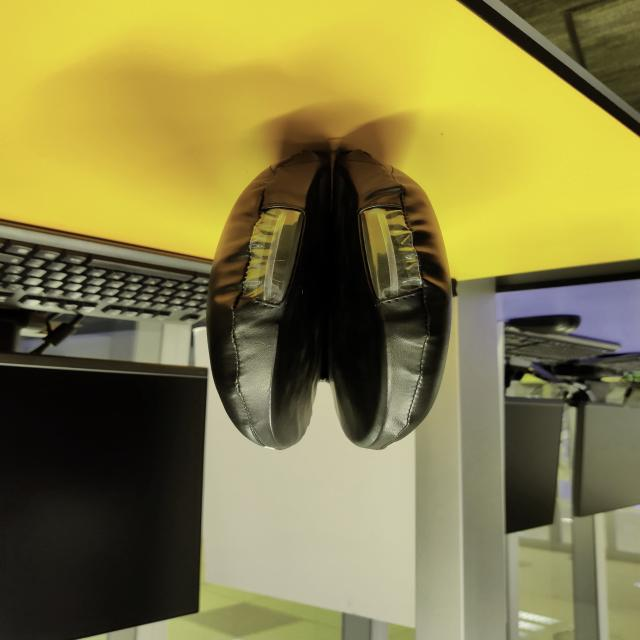paddle: (196, 138, 456, 456)
